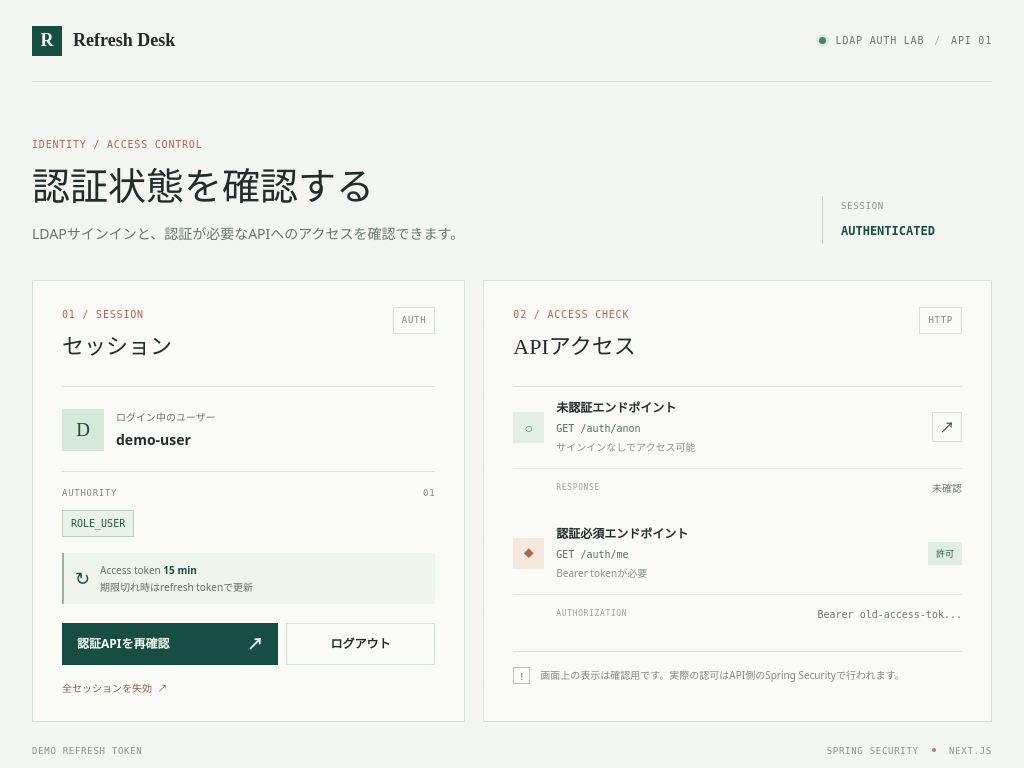
signOutAll retry › stops after a second 401
expect the text "AUTHENTICATED" is shown: met, box [841,224,935,238]
Click the button "全セッションを失効 ↗". click: (108, 688)
box: [62,673,435,696]
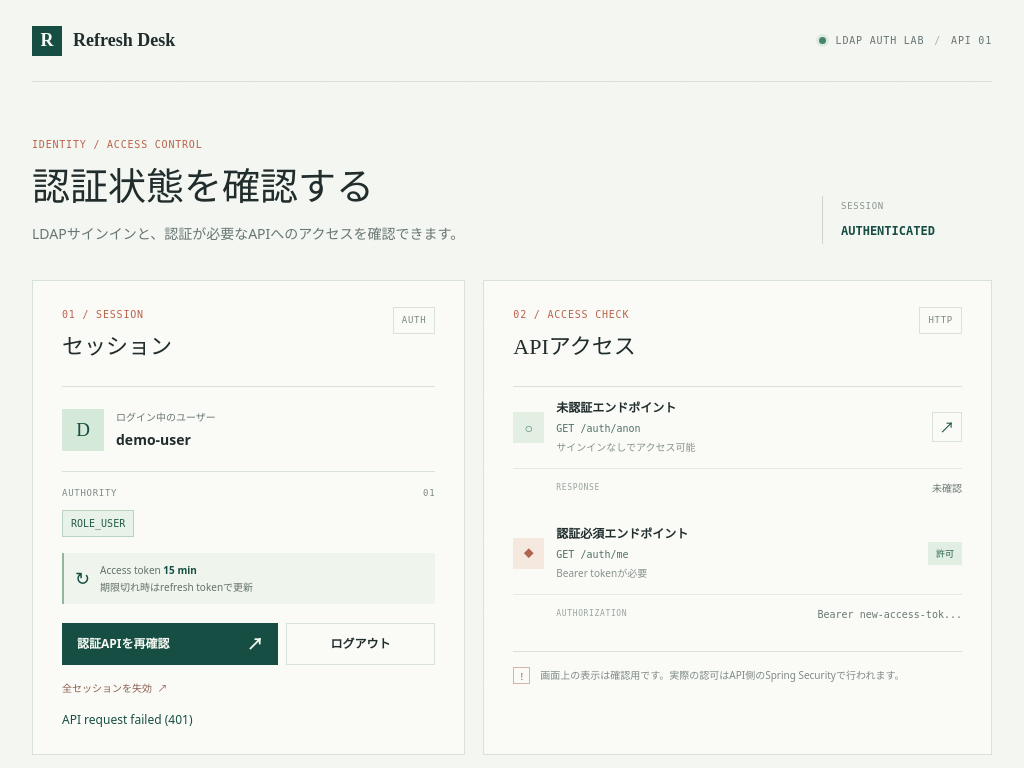
expect the message "API request failed (401)" is shown: met, box [62,711,192,728]
